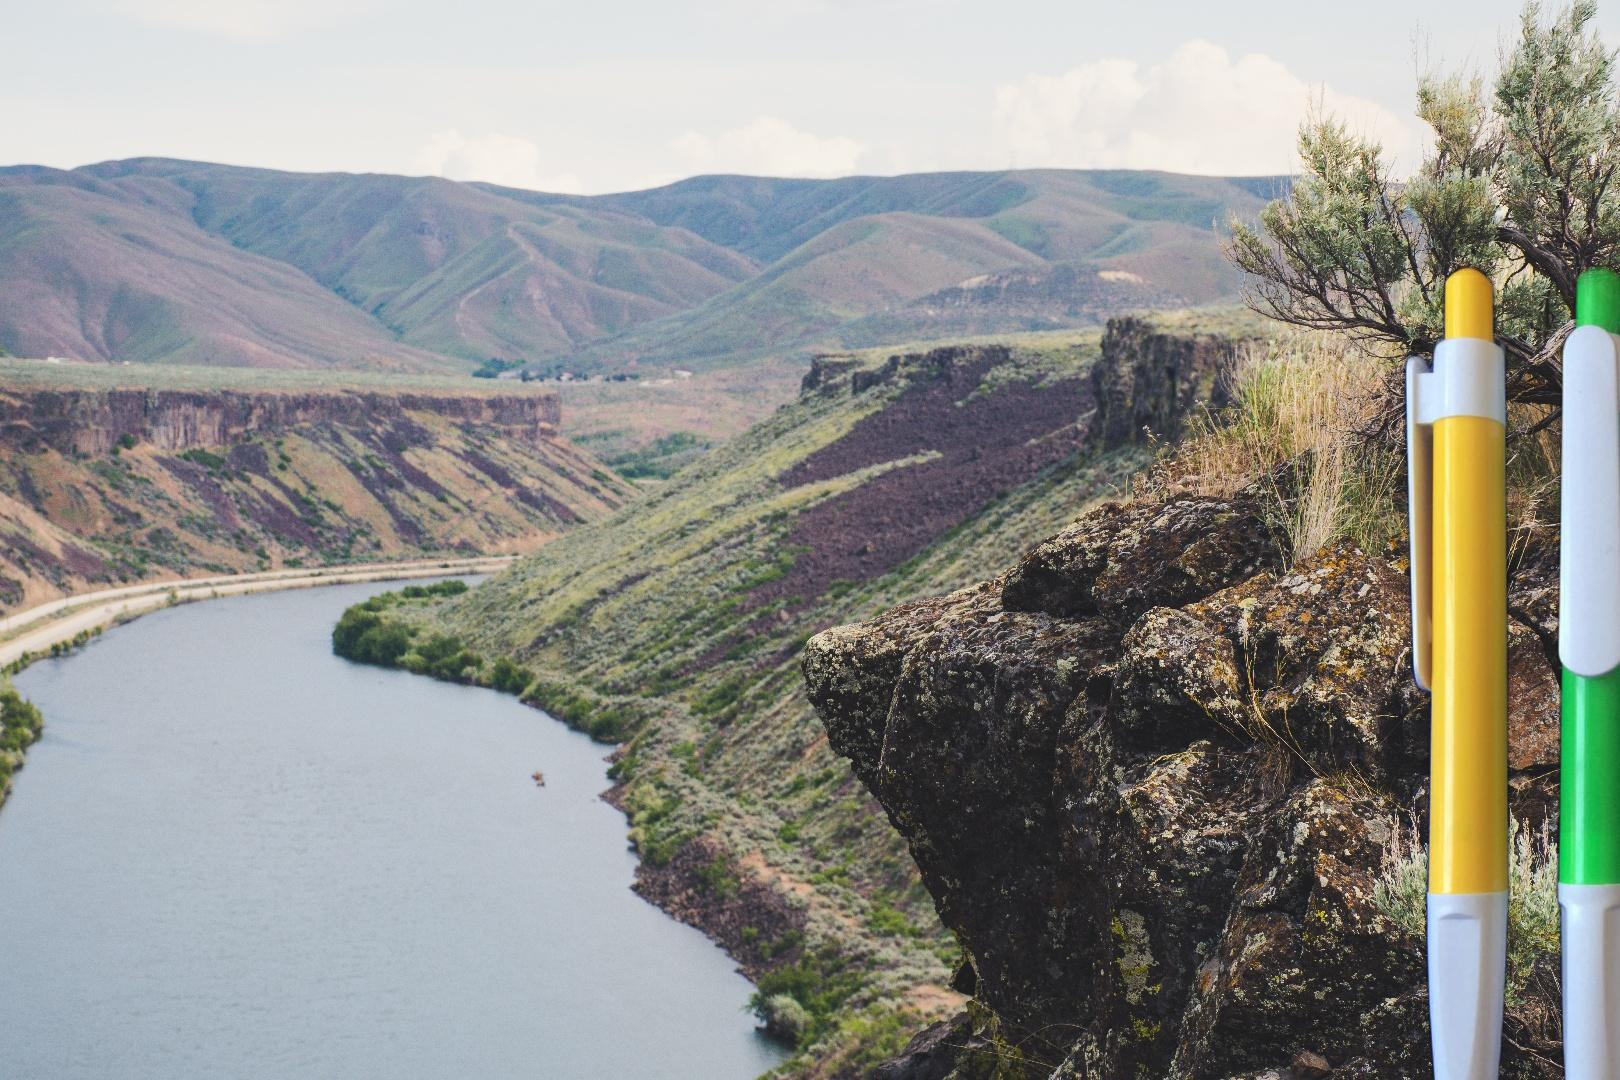penholder: (1398, 253, 1620, 1080)
